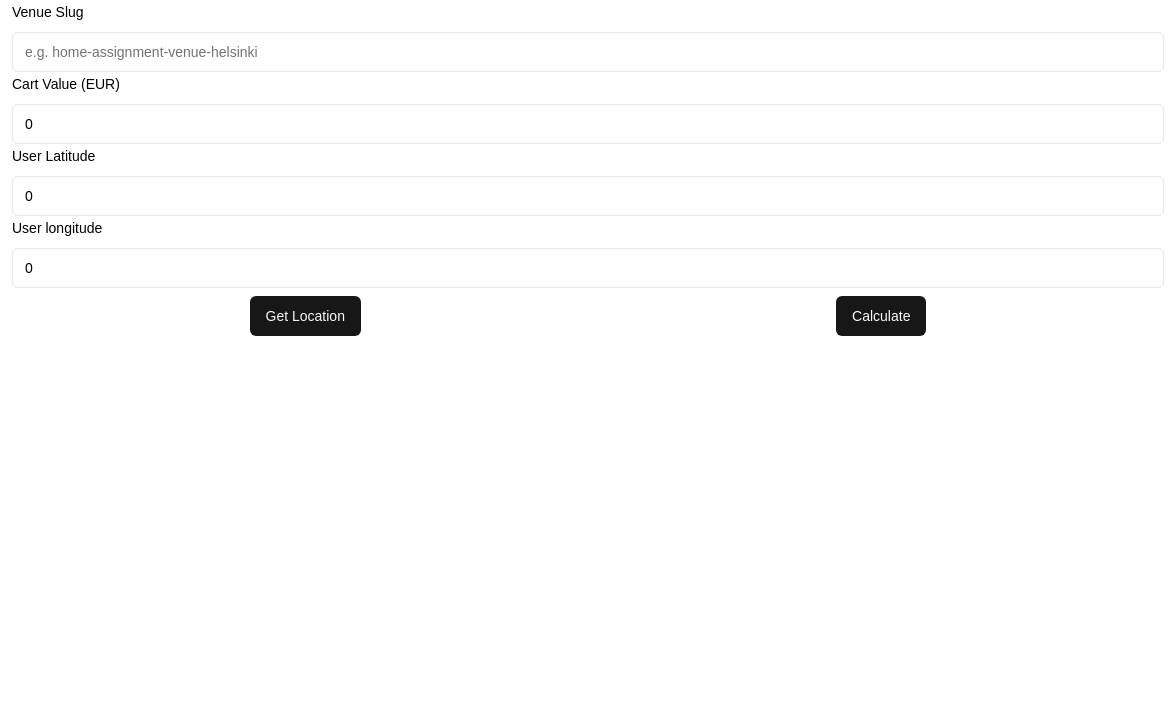
Test CalculationForm component › CalculationResult should show after inputting all correct values
This screenshot has width=1176, height=720.
Type "home-assignment-venue-tallinn" into the field labelled "Venue Slug" at (588, 52), box top-left (12, 32), bottom-right (1164, 72)
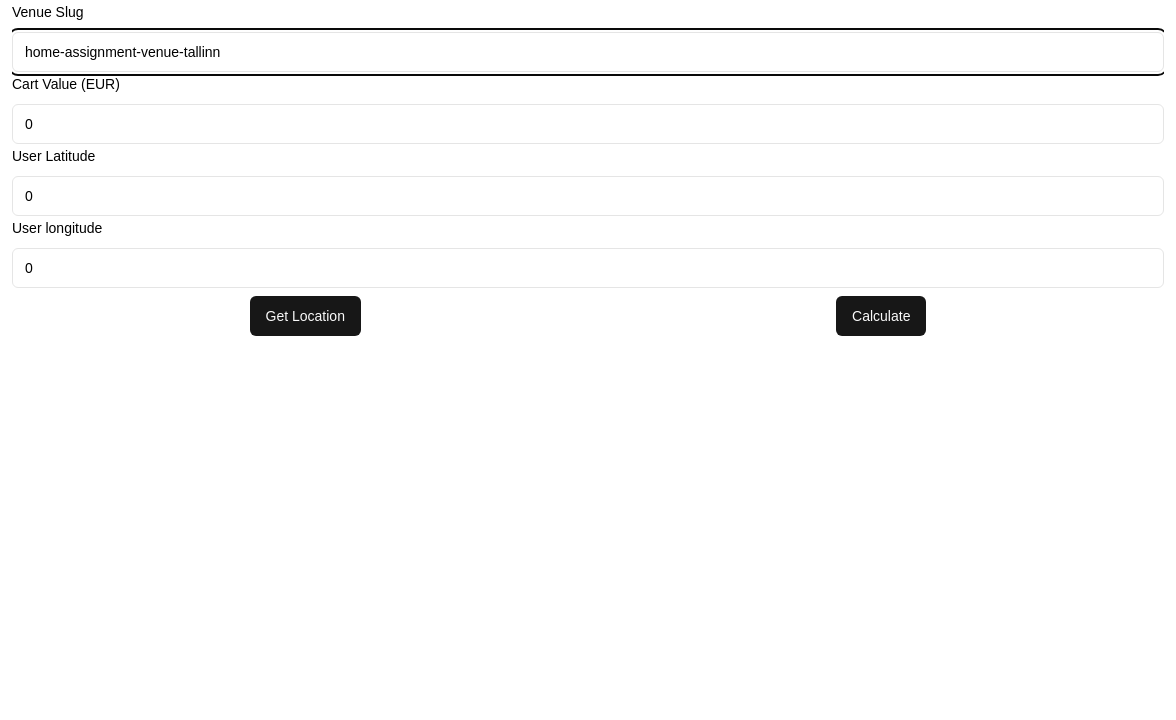
Type "20.1" into the number field labelled "Cart Value" at (588, 124), box top-left (12, 104), bottom-right (1164, 144)
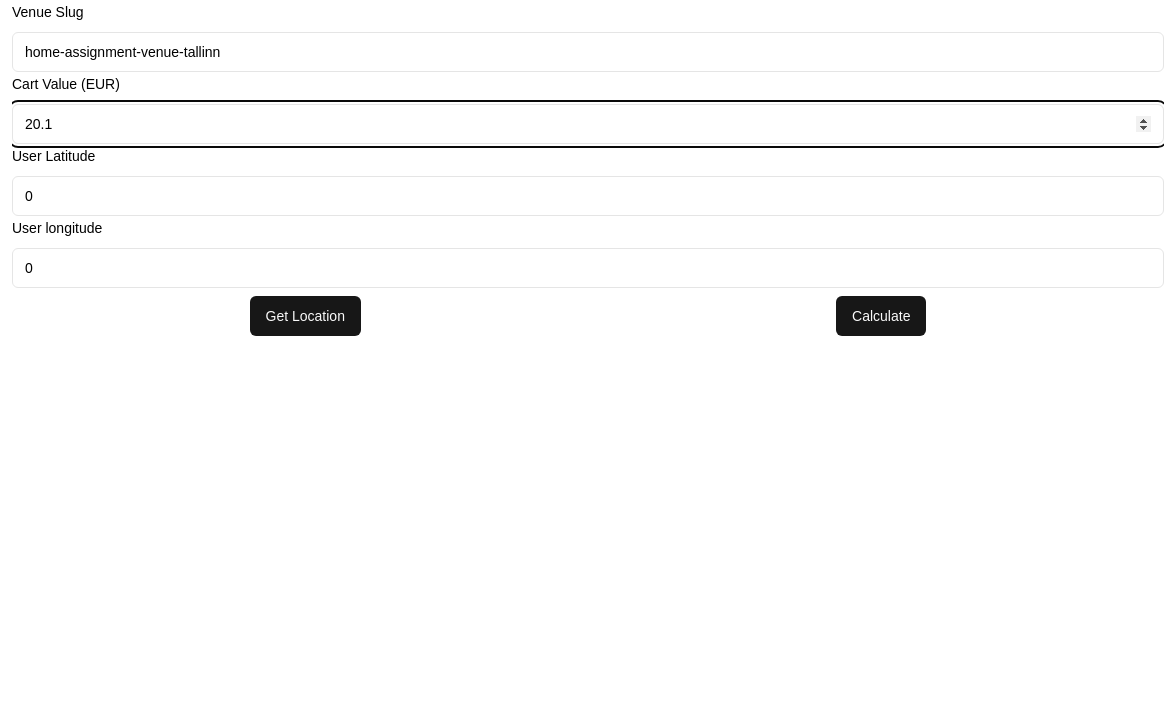
Type "20.1" into the number field labelled "User Latitude" at (588, 196), box top-left (12, 176), bottom-right (1164, 216)
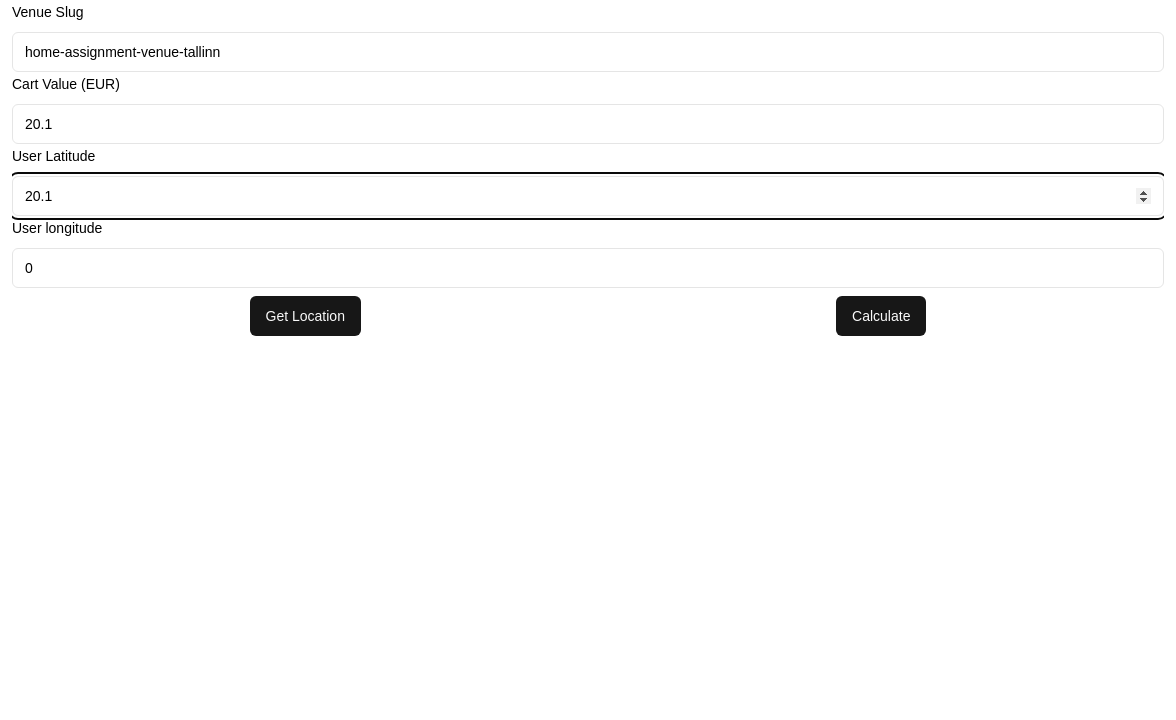
Type "60.1" into the number field labelled "User longitude" at (588, 268), box top-left (12, 248), bottom-right (1164, 288)
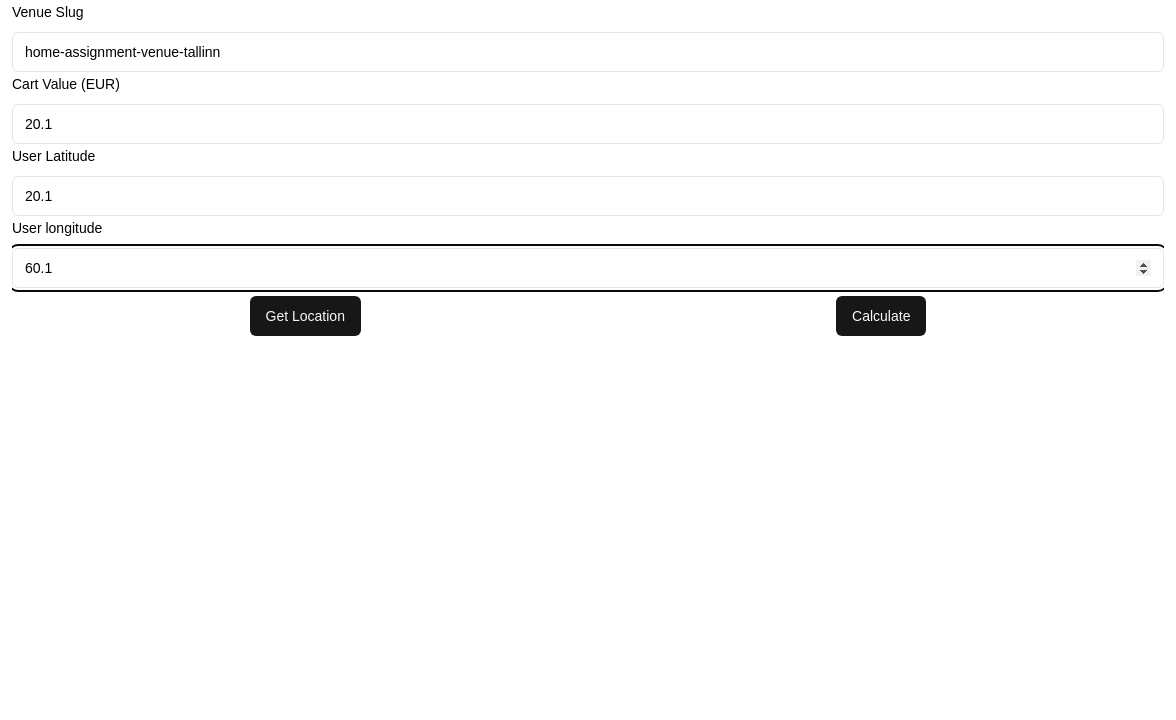
Click the button with test id "form-submit-button" at (881, 316), box top-left (836, 296), bottom-right (926, 336)
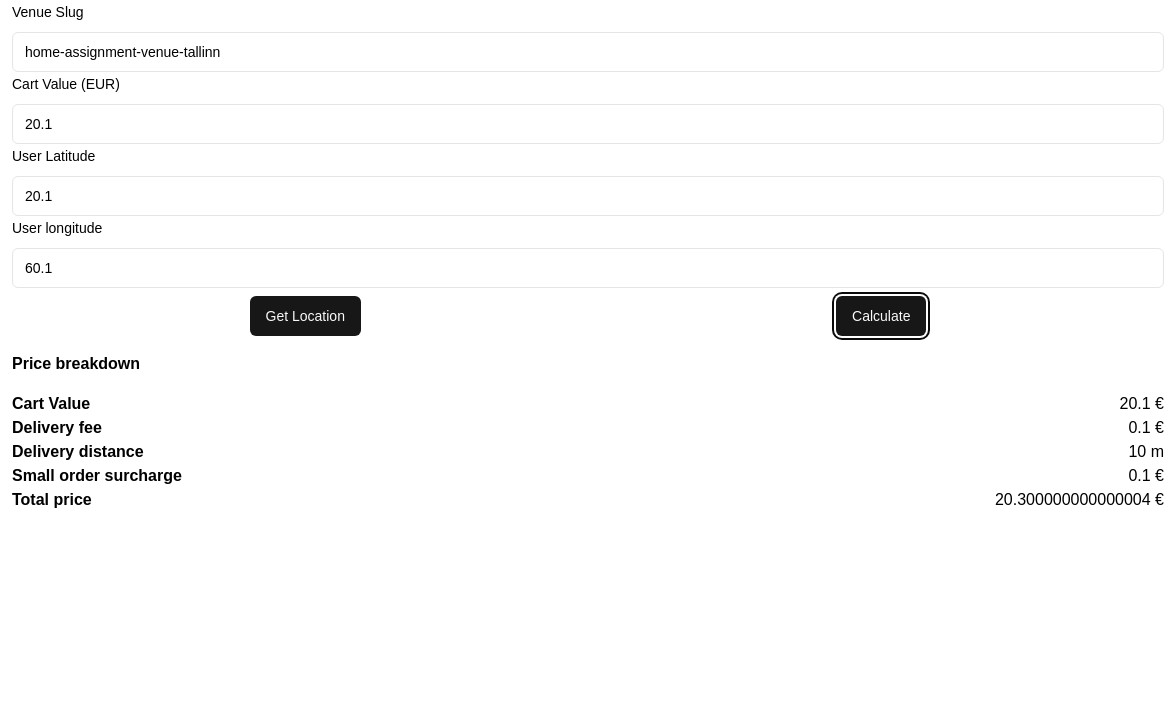
Expected: the text "20.1 €" is shown, top-left (1120, 392), bottom-right (1164, 416)
